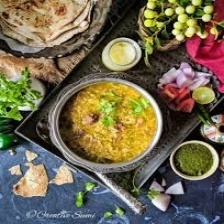sabzi: (55, 80, 156, 167)
